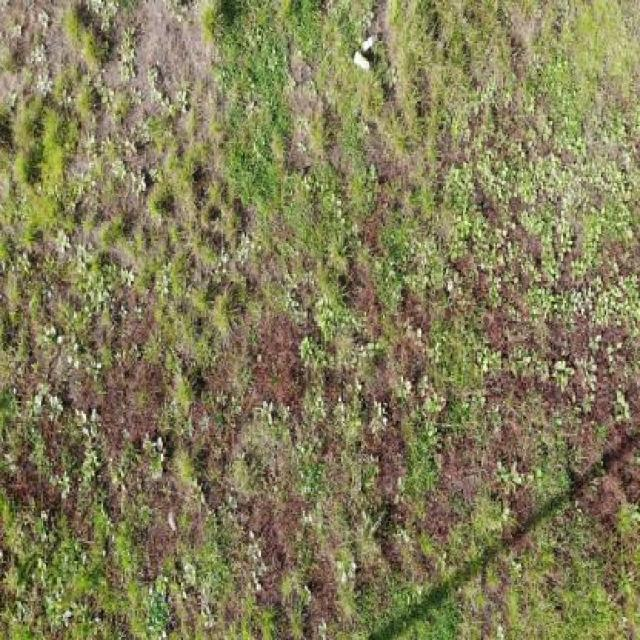Garbage: (352, 49, 370, 73), (358, 34, 377, 56)
